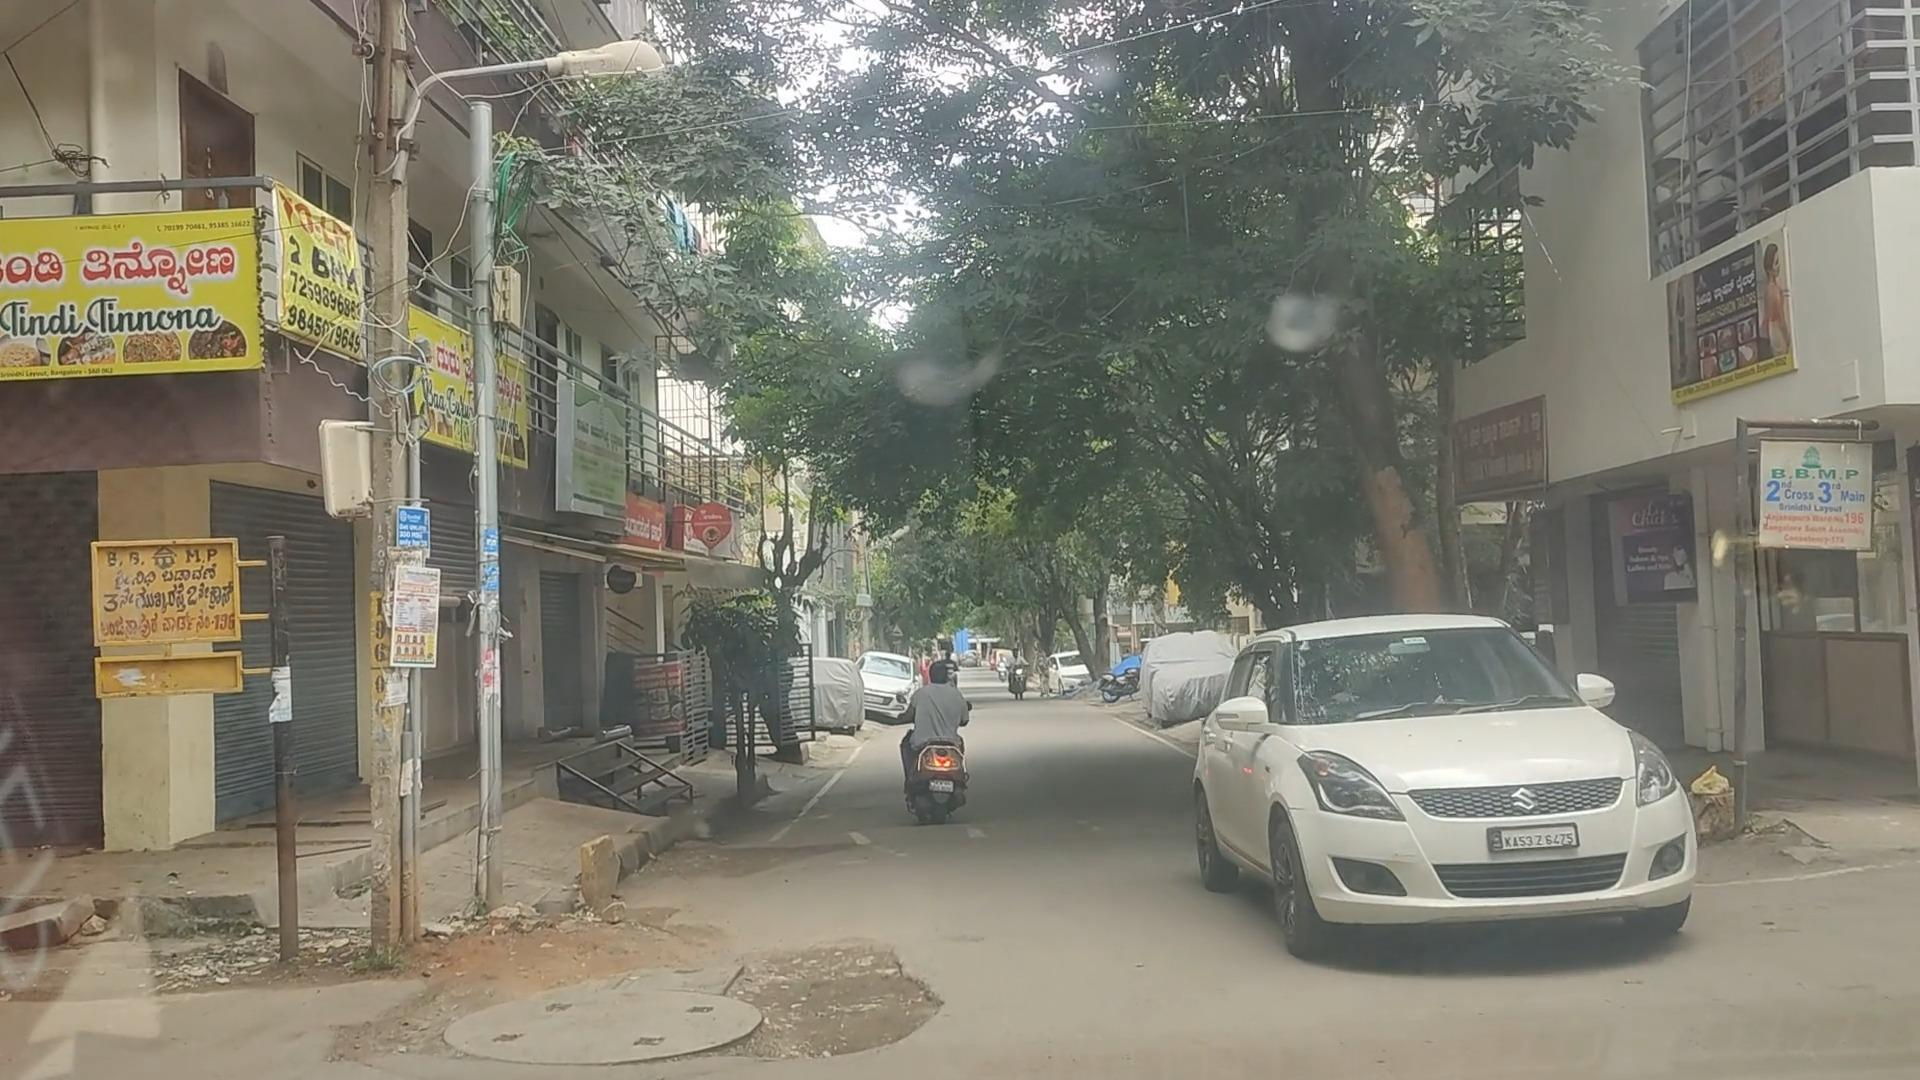LMV: (1183, 611, 1726, 971), (882, 599, 1004, 851)
RoadDamages: (447, 927, 944, 1080)
